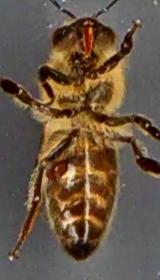varroa_mite: (41, 152, 78, 186)
